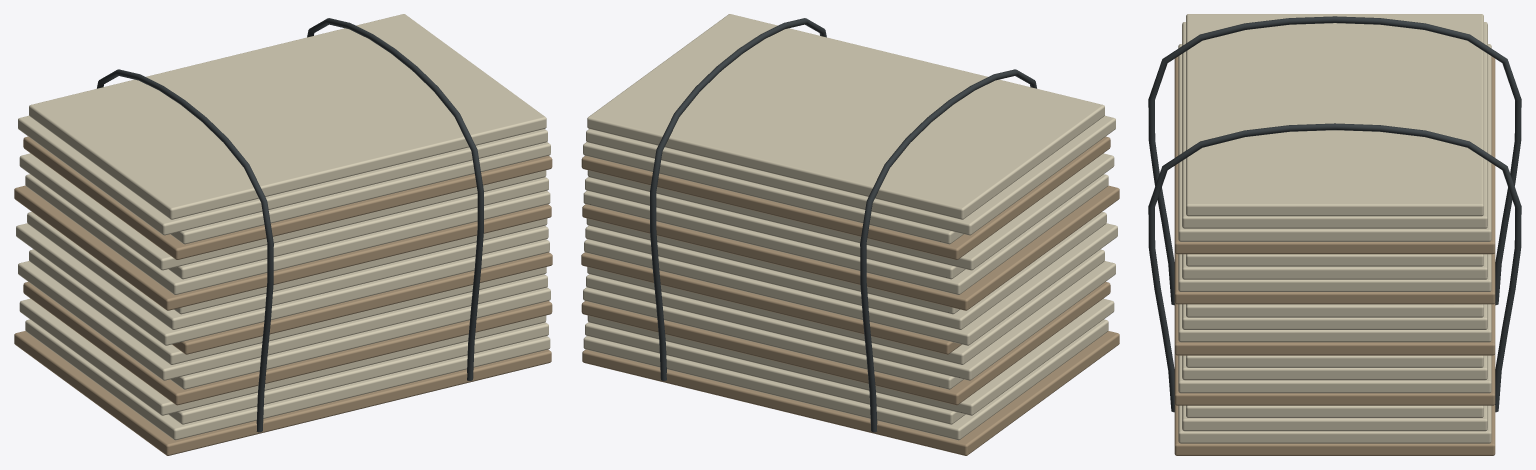
File: recycling-centre-and-material-sorting-compacted-paper--610b79d2__31129.glb
The picture shows the model from 3 angles, left to right: view 1: azimuth 30°, elevation 25°; view 2: azimuth 150°, elevation 25°; view 3: azimuth 270°, elevation 25°; orthographic projection. The views are drawn at different scales.
Visible parts, largest first — view 1: compacted-paper-bale; view 2: compacted-paper-bale; view 3: compacted-paper-bale.
Part boxes in pixels (x1,y1,x2,y2): compacted-paper-bale: (14, 14, 552, 455); compacted-paper-bale: (581, 14, 1119, 455); compacted-paper-bale: (1148, 14, 1521, 455).
Size of the model in its own units: 1.1 by 0.7601 by 0.8839.
